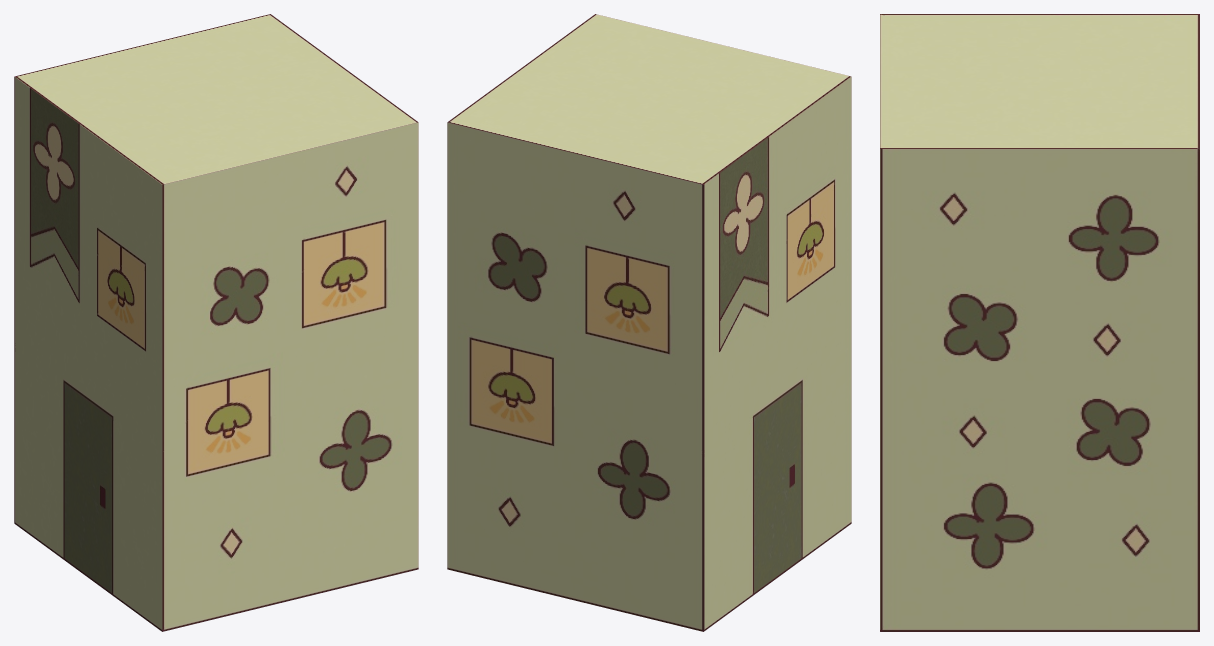
The model's file is dream_building8.fbx.
3 views of the same model, side by side, from view 1: azimuth 30°, elevation 25°; view 2: azimuth 150°, elevation 25°; view 3: azimuth 270°, elevation 25° (orthographic). The views are drawn at different scales.
Visible parts, largest first — view 1: Box001; view 2: Box001; view 3: Box001.
Part boxes in pixels (x1,y1,x2,y2): Box001: (14, 14, 418, 631); Box001: (447, 14, 851, 631); Box001: (880, 14, 1199, 631).
Bounding box in the file's own units: 360 × 600 × 360.
Materials: 1 (1 with a texture image).
